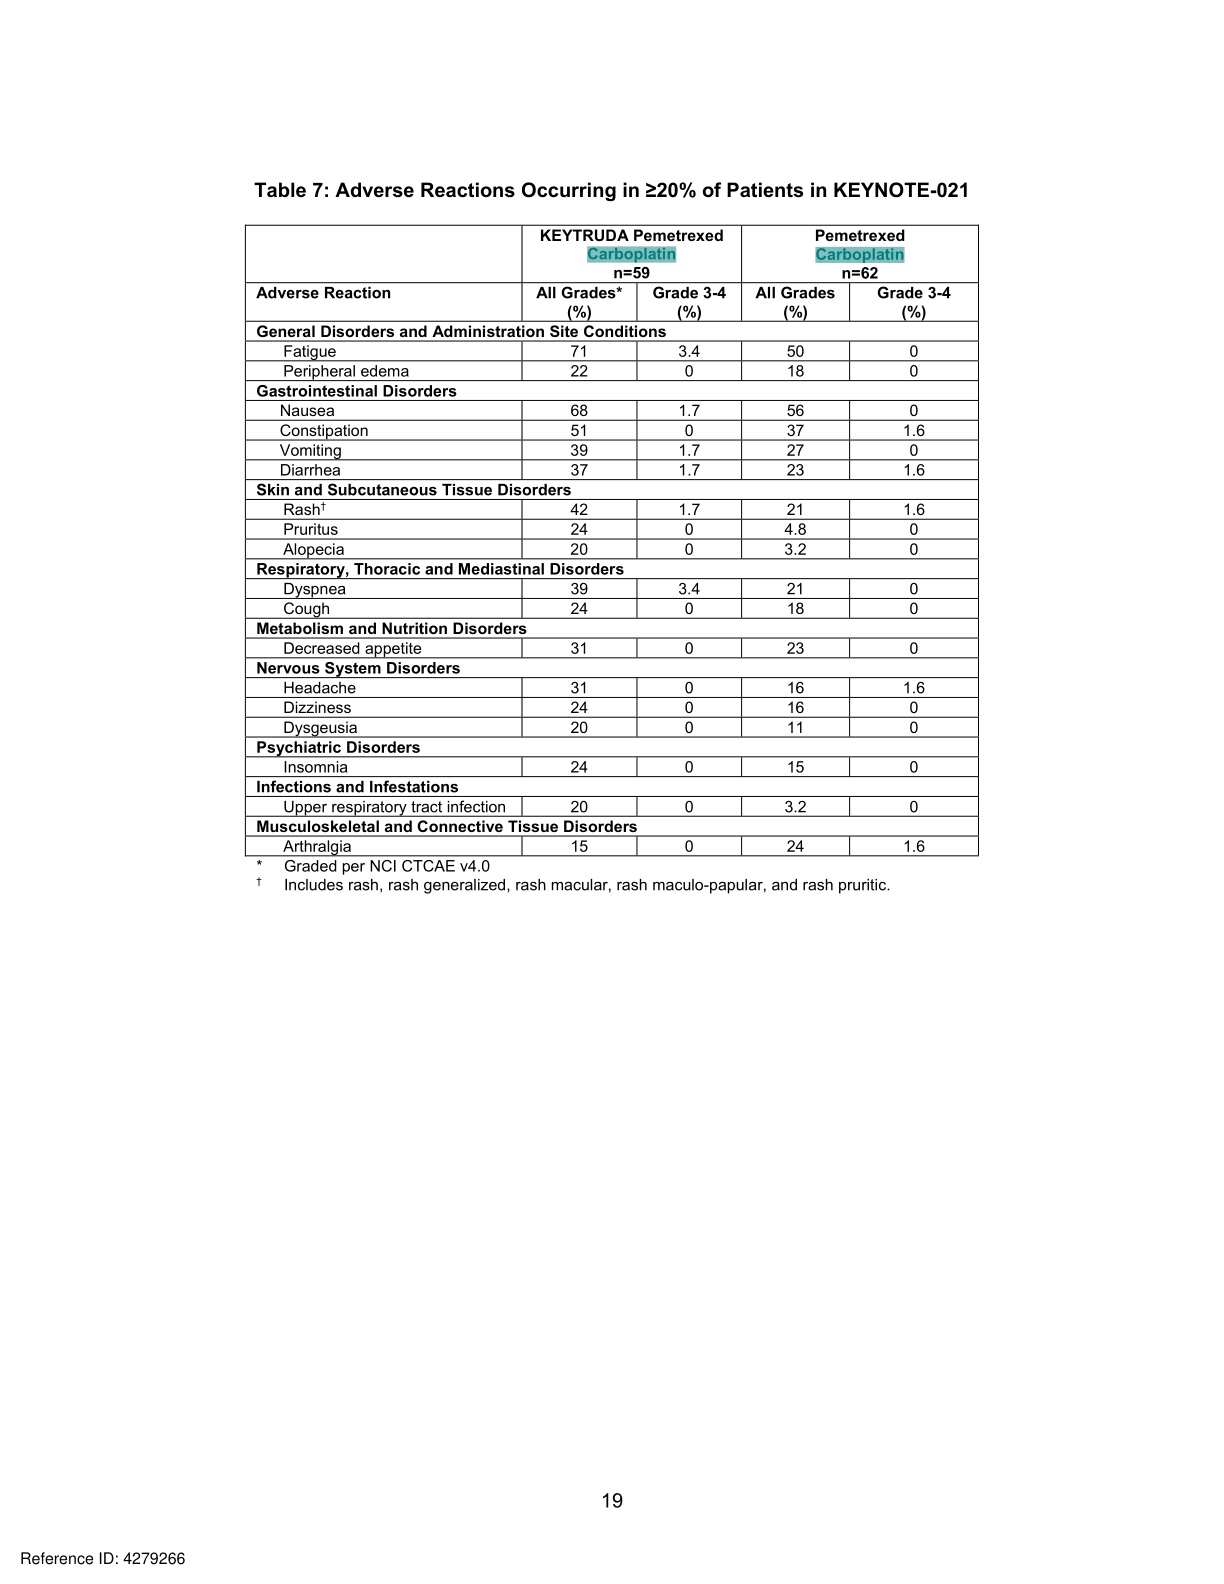merged_cells: (244, 222, 980, 858)
